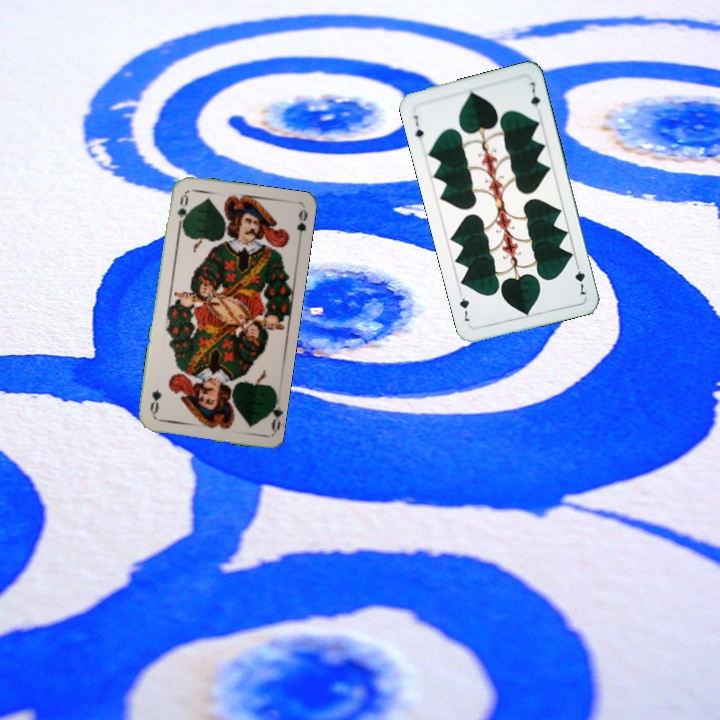G7: (571, 258, 589, 298), (409, 111, 426, 141)
GO: (262, 393, 283, 434), (173, 189, 191, 230)
